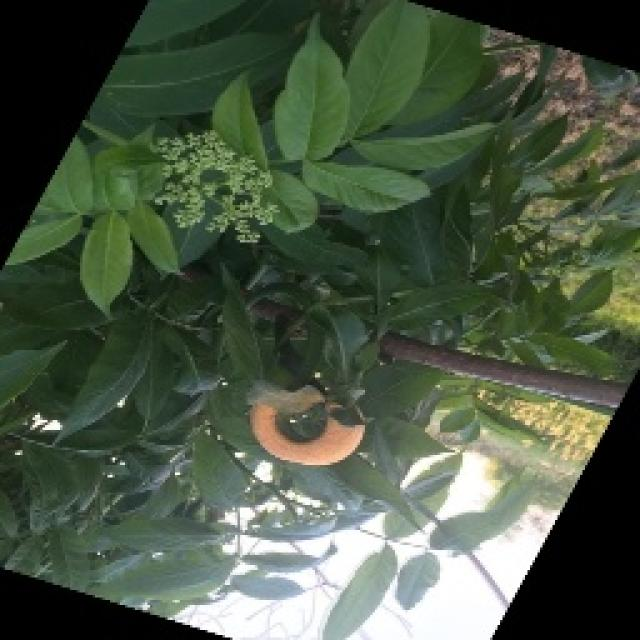Elderberry_rust: (245, 378, 367, 468)
